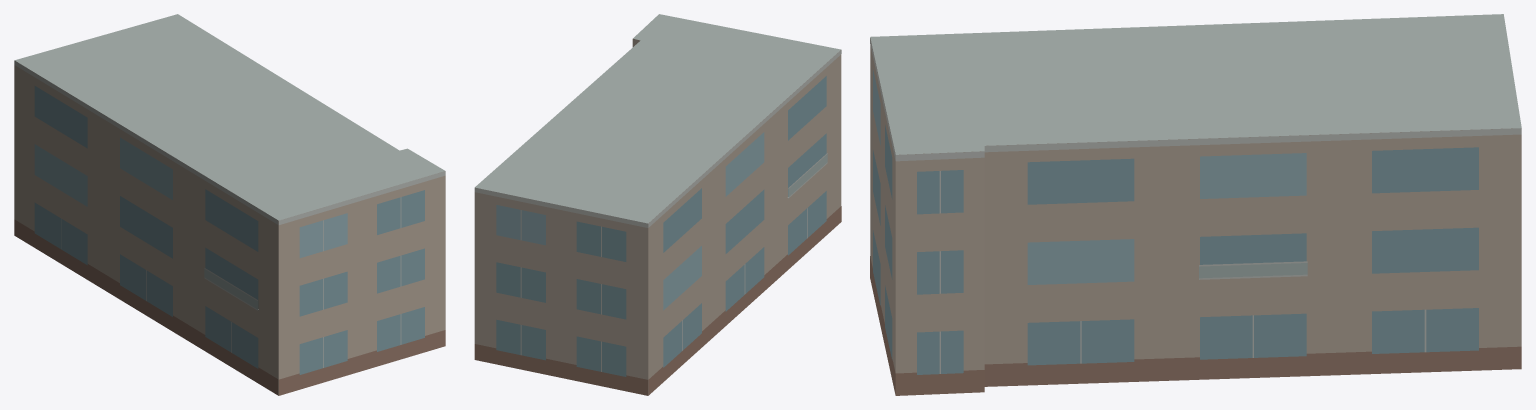
File: survey-upis-32619972.glb
3 views of the same model, side by side, from view 1: azimuth 30°, elevation 25°; view 2: azimuth 150°, elevation 25°; view 3: azimuth 270°, elevation 25° (orthographic). The views are drawn at different scales.
Visible parts, largest first — view 1: survey-upis-32619972.tmp; view 2: survey-upis-32619972.tmp; view 3: survey-upis-32619972.tmp.
Boxes of the visible parts, x1,y1,x2,y2 form: survey-upis-32619972.tmp: [14, 14, 445, 395]; survey-upis-32619972.tmp: [474, 14, 841, 395]; survey-upis-32619972.tmp: [870, 14, 1521, 395].
Size of the model in its own units: 11.48 by 9.15 by 22.44.
